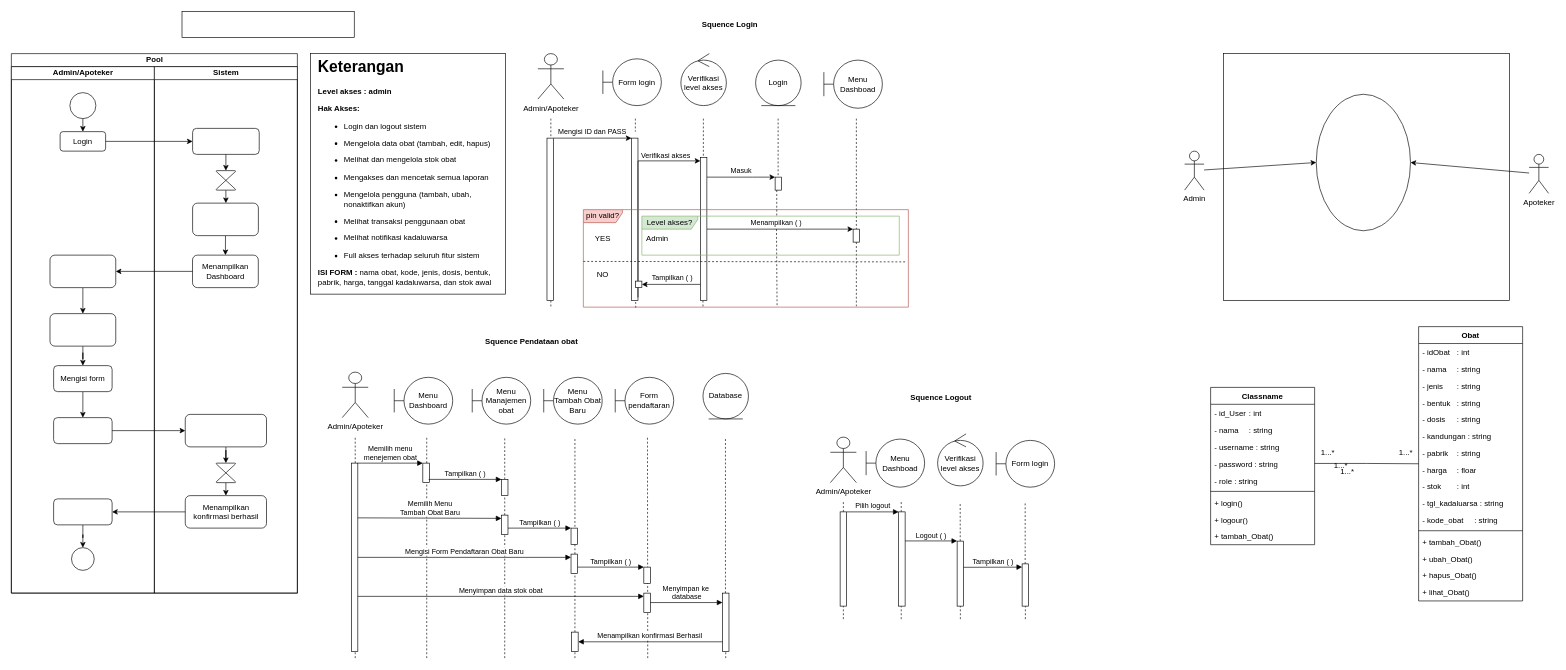
Some shapes in this 1566 by 670 pixel diagram are drawn without their labels. The centre of each missing label's shape, as x and y in pixels:
Akses menu "Menajemen Obat": pixel 82 271
Klik "Simpan": pixel 82 430
Level akses diverifikasi sebagai admin: pixel 225 219
Logout: pixel 82 511
Memverifikasi level akses: pixel 225 141
Mengklik tombol "Tambah Obat Baru": pixel 82 329
Pencatatan Data Obat: pixel 267 24
Sistem menyimpan data obat ke dalam database: pixel 225 430
Tambah obat Ubah Obat Hapus Obat Lihat Obat: pixel 1363 162
